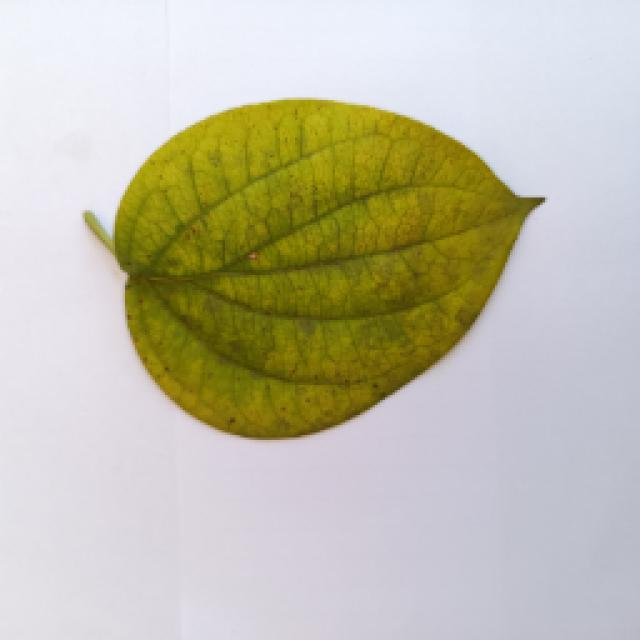slow-decline: (70, 95, 548, 440)
